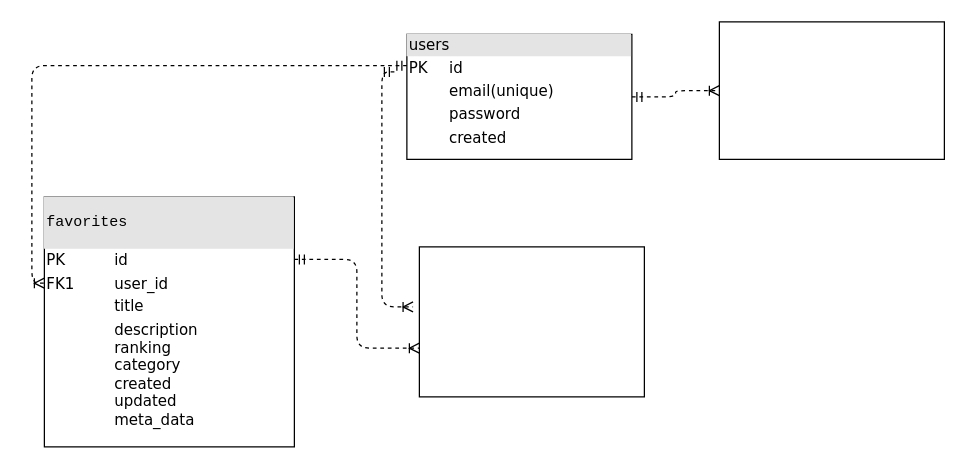
Some shapes in this 966 by 469 pixel diagram are drawn without their labels. Here are the shapes that lost their labels. From the top down, the box of each, then its label:
(718, 21, 944, 159): user_category PK id FK1 user_id category
(418, 246, 644, 397): audit PK id FK1 user_id text FK1 favorite_thing_id created
